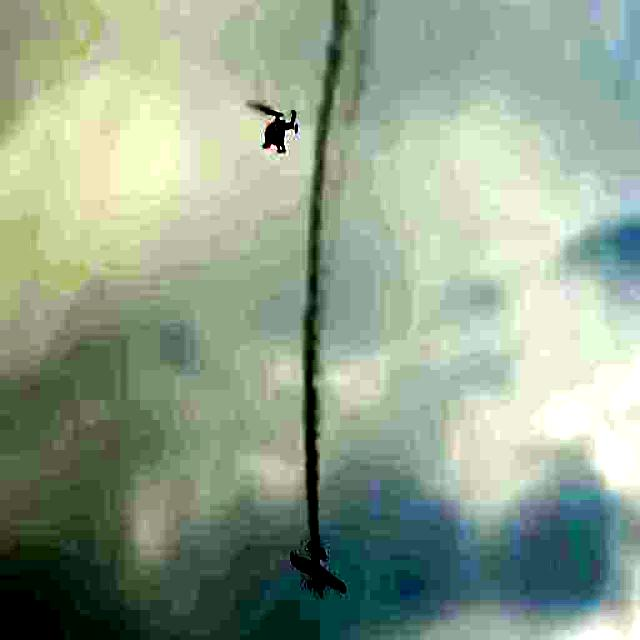drone: (251, 84, 305, 165)
